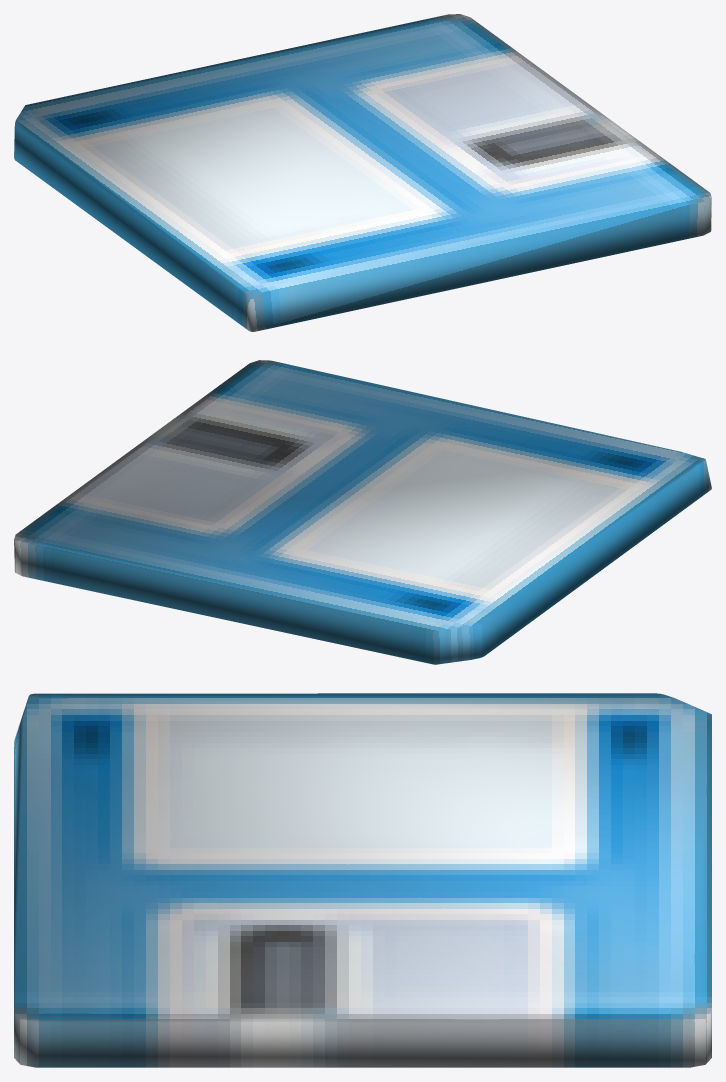
File: WorldItem_HCFloppyDisk.fbx
3 views of the same model, one above another, from view 1: azimuth 30°, elevation 25°; view 2: azimuth 150°, elevation 25°; view 3: azimuth 270°, elevation 25° (orthographic). The views are drawn at different scales.
Parts seen in each view (by area): view 1: Cube; view 2: Cube; view 3: Cube.
Boxes of the visible parts, <box> form: Cube: <box>14,14,711,331</box>; Cube: <box>14,360,711,664</box>; Cube: <box>14,693,711,1067</box>.
Bounding box in the file's own units: 0.0823 × 0.00796 × 0.0781.
